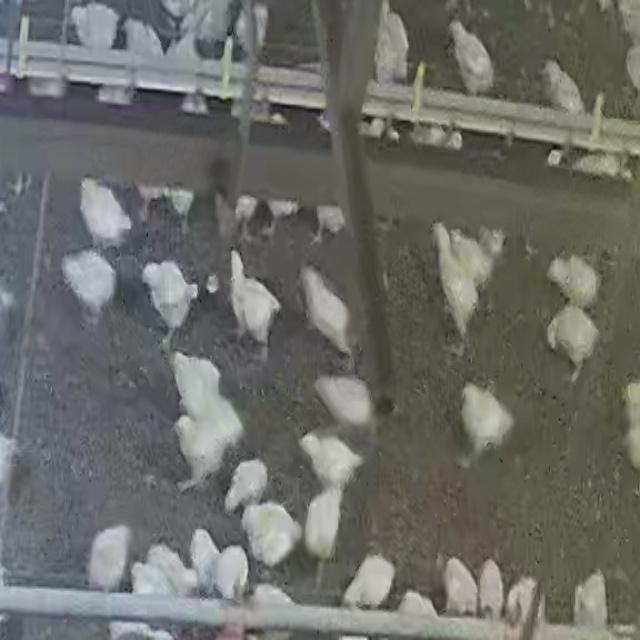chicken: (170, 350, 243, 490), (432, 223, 480, 339), (300, 264, 354, 362), (229, 249, 282, 343), (458, 380, 512, 468), (240, 501, 302, 571), (60, 250, 116, 327), (142, 258, 198, 334), (544, 304, 602, 377), (78, 177, 134, 248), (446, 16, 496, 95), (314, 371, 374, 434), (300, 431, 364, 488), (372, 2, 410, 87), (132, 564, 180, 628), (87, 523, 132, 591), (343, 552, 396, 608), (547, 253, 599, 308), (305, 484, 342, 559), (149, 546, 199, 601), (538, 58, 586, 114), (67, 3, 117, 55), (121, 20, 163, 81), (442, 555, 480, 616), (226, 456, 266, 513), (189, 527, 221, 592), (160, 187, 198, 237), (214, 545, 249, 599), (259, 196, 300, 242), (574, 570, 608, 625), (477, 558, 506, 618), (233, 196, 267, 234), (314, 203, 347, 240)
